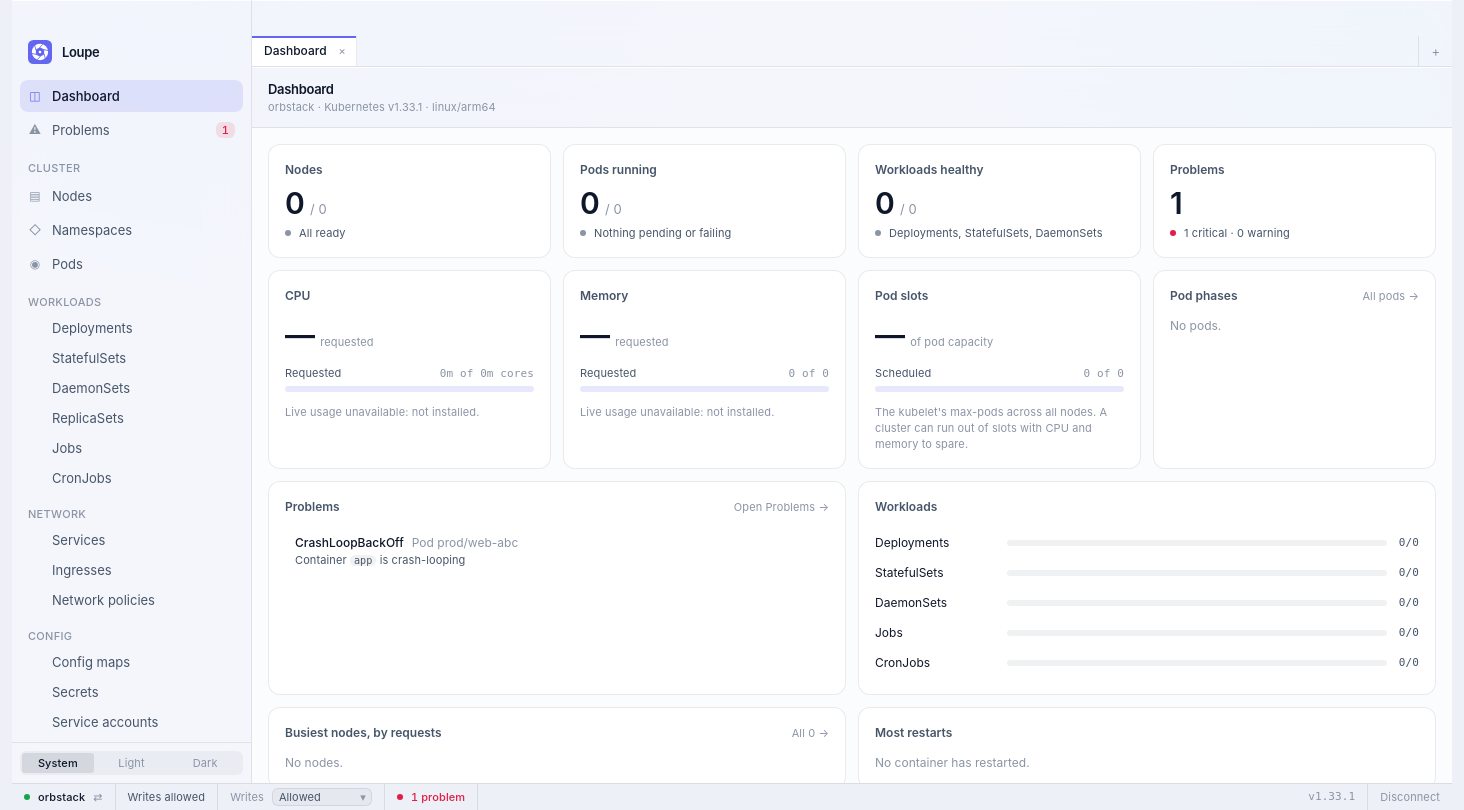
Test: App problems › counts what is broken in the status bar and the rail, and opens the view from either
Expected: the heading "Dashboard" is shown, [268, 81, 334, 97]
# Info rows are listed but not counted.
Click the button "1 problem" at (432, 797), box [385, 784, 478, 809]
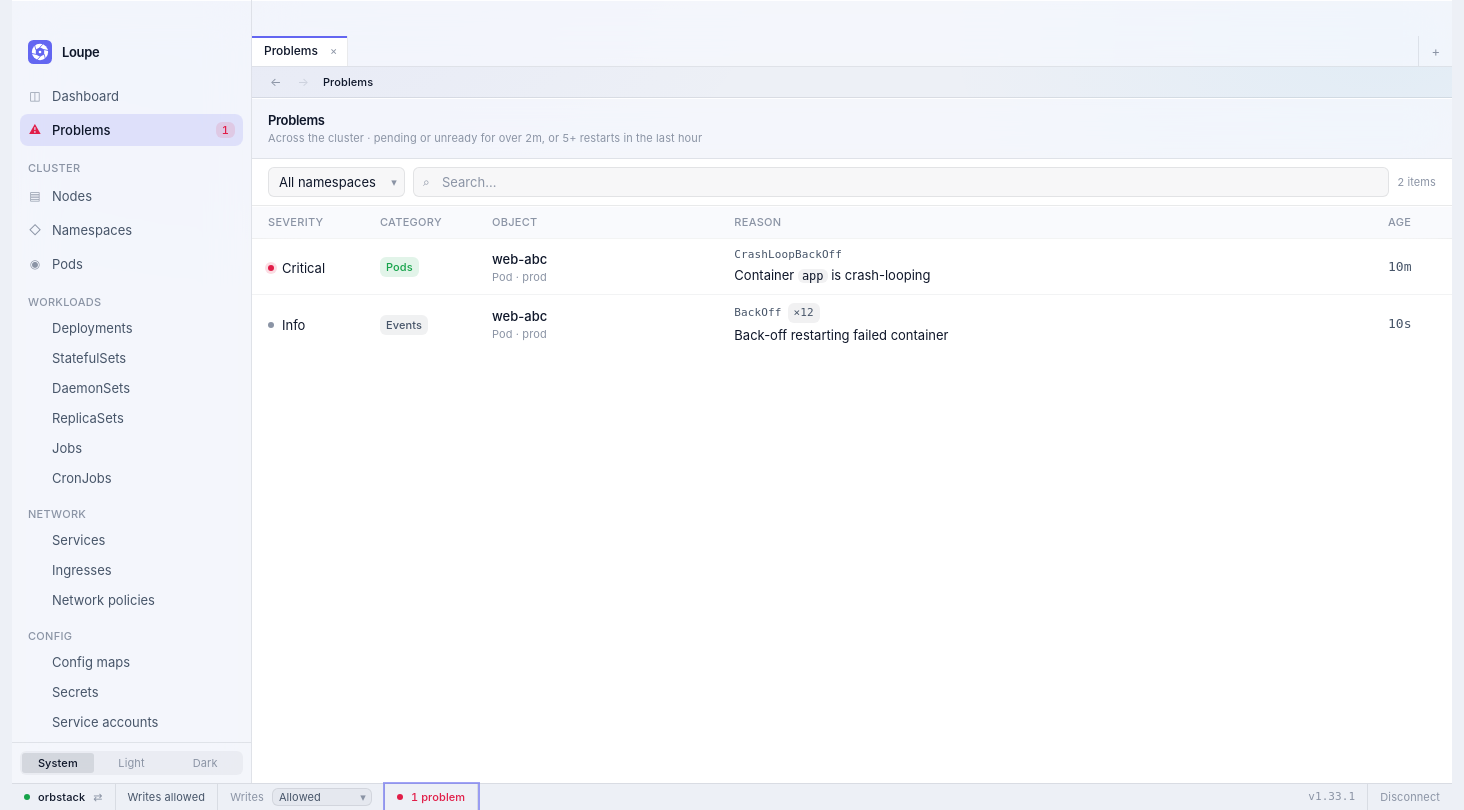
Expected: the text "CrashLoopBackOff" is shown, [734, 247, 842, 263]
Expected: the heading "Problems" is shown, [268, 112, 325, 128]
Expected: the text "×12" is shown, [788, 303, 820, 323]
